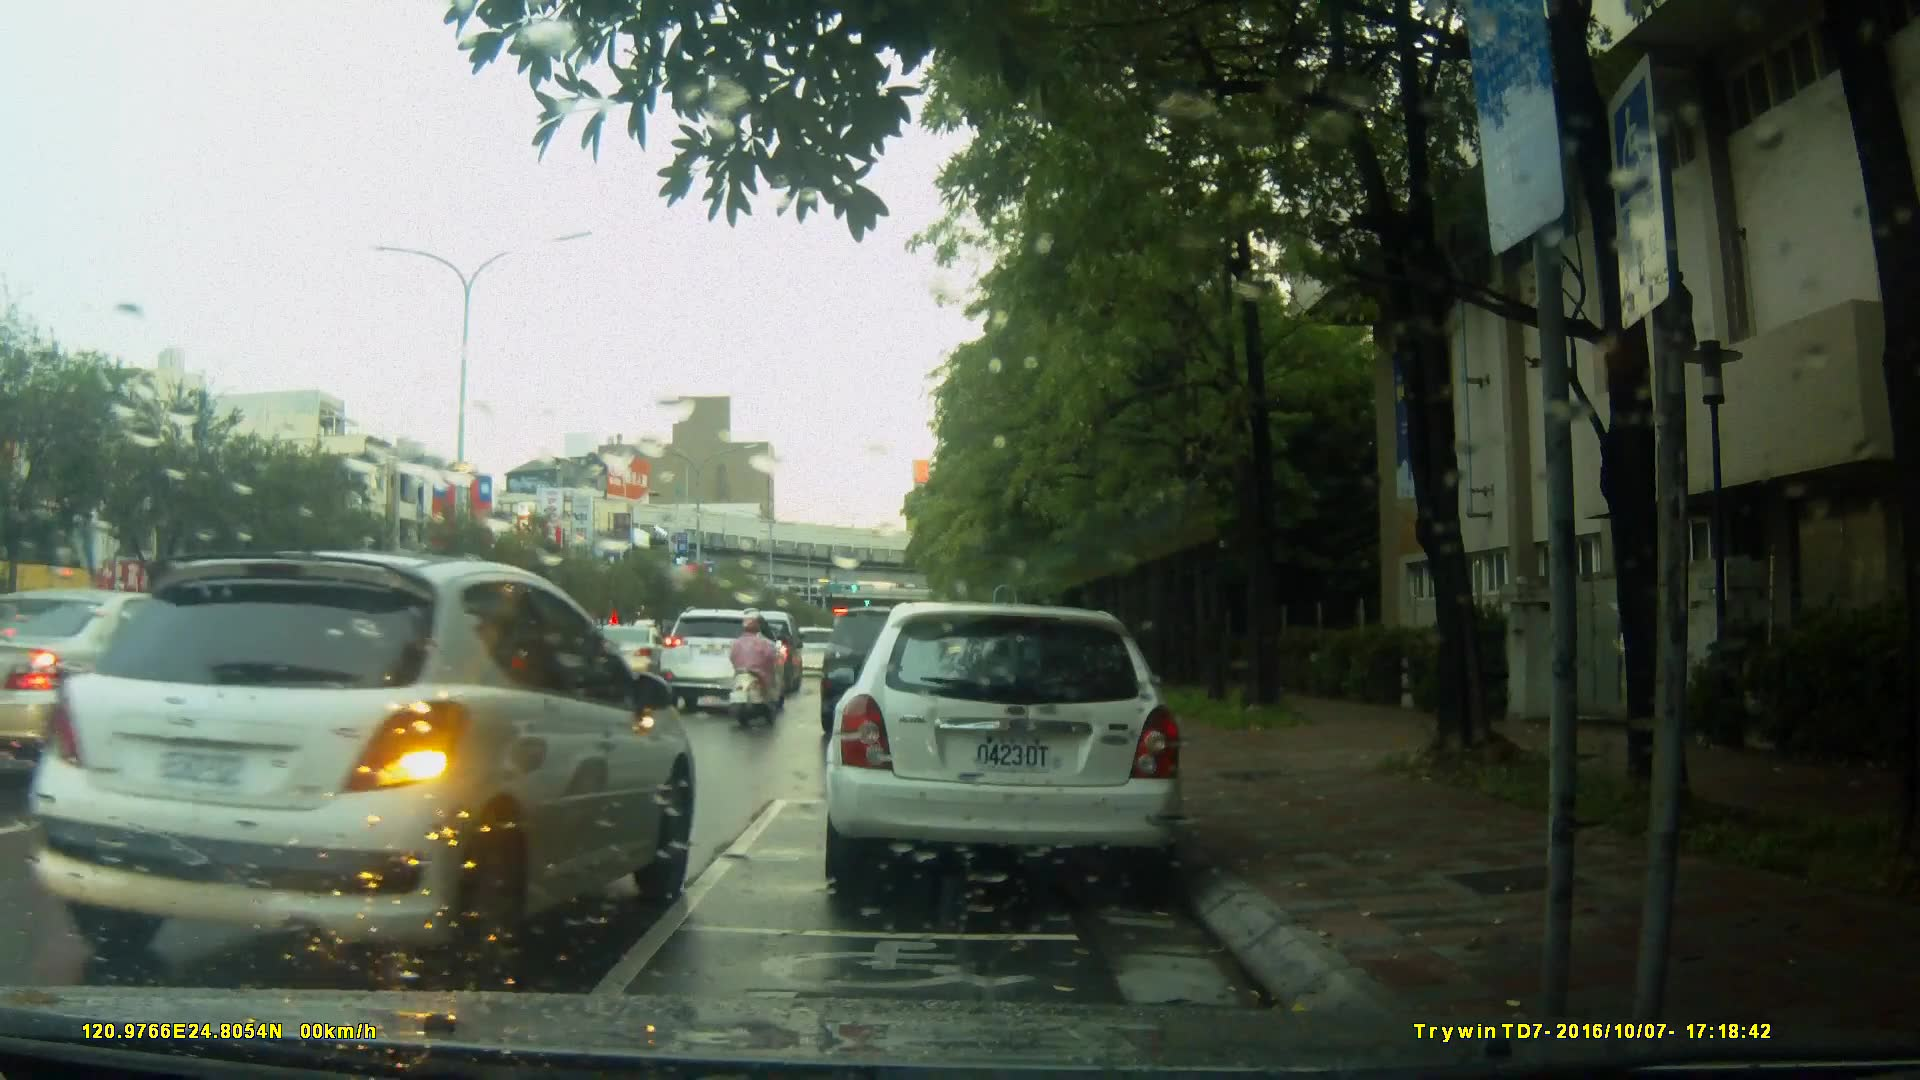rider: (723, 610, 777, 733)
vehicle: (29, 548, 695, 980), (820, 602, 1188, 898), (4, 587, 288, 775), (658, 608, 788, 717)
